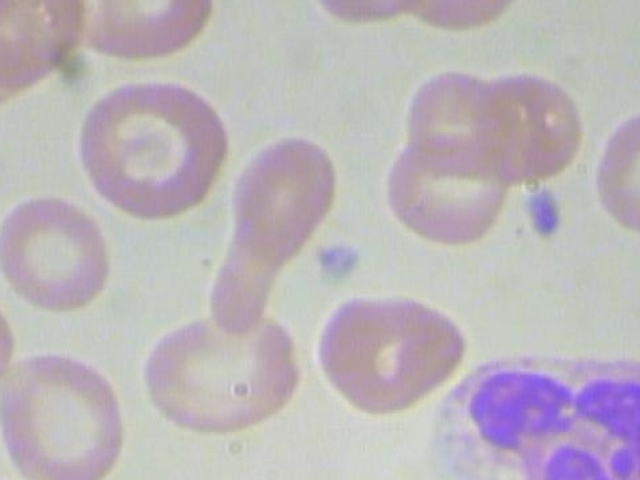Platelets: (304, 237, 364, 288), (524, 184, 571, 248), (198, 477, 258, 480)
RBC: (198, 129, 344, 337), (71, 77, 241, 223), (134, 299, 305, 443), (312, 282, 477, 429), (0, 350, 139, 480), (0, 182, 117, 314), (381, 128, 506, 248), (460, 67, 585, 187), (394, 57, 508, 161), (55, 0, 225, 66), (582, 99, 640, 245)
WBC: (400, 344, 640, 480)
